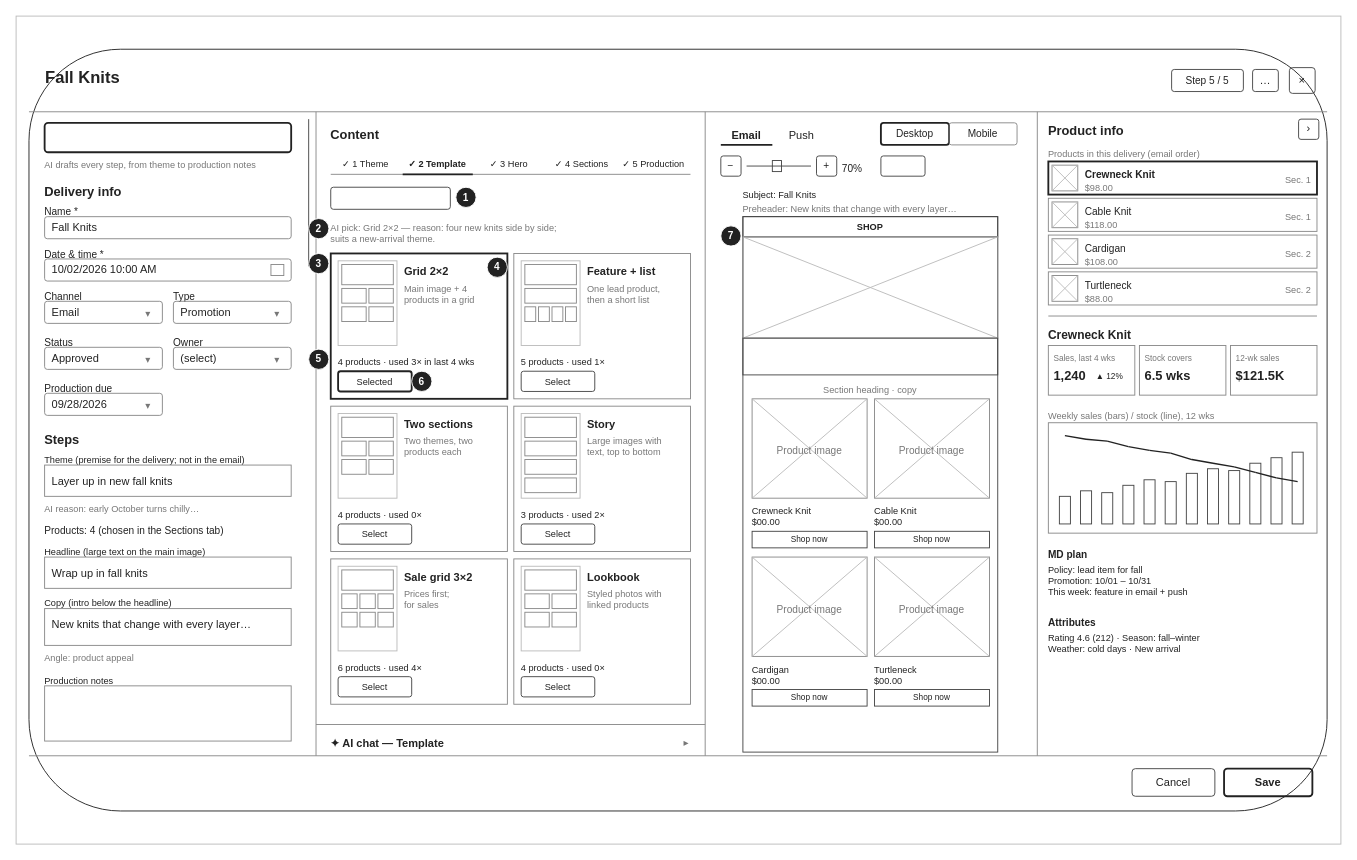
Image size: 1357x860. Some labels were removed from this diagram. The centre of each missing label's shape, as x and y in pixels:
(notes for the production team): the point at 167,713
Fit: the point at 902,165
Headline Copy: the point at 870,356
Main image: the point at 870,287
✦ Draft all with AI: the point at 167,137
✦ Suggest with AI: the point at 390,197
